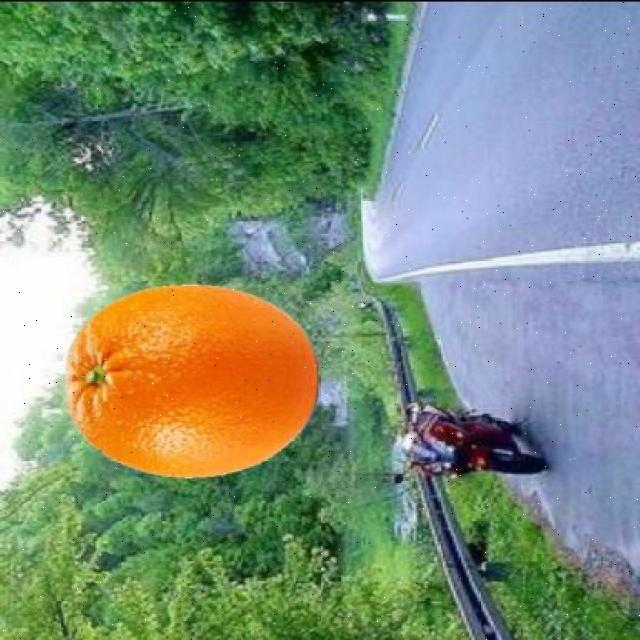Orange: (63, 282, 320, 478)
